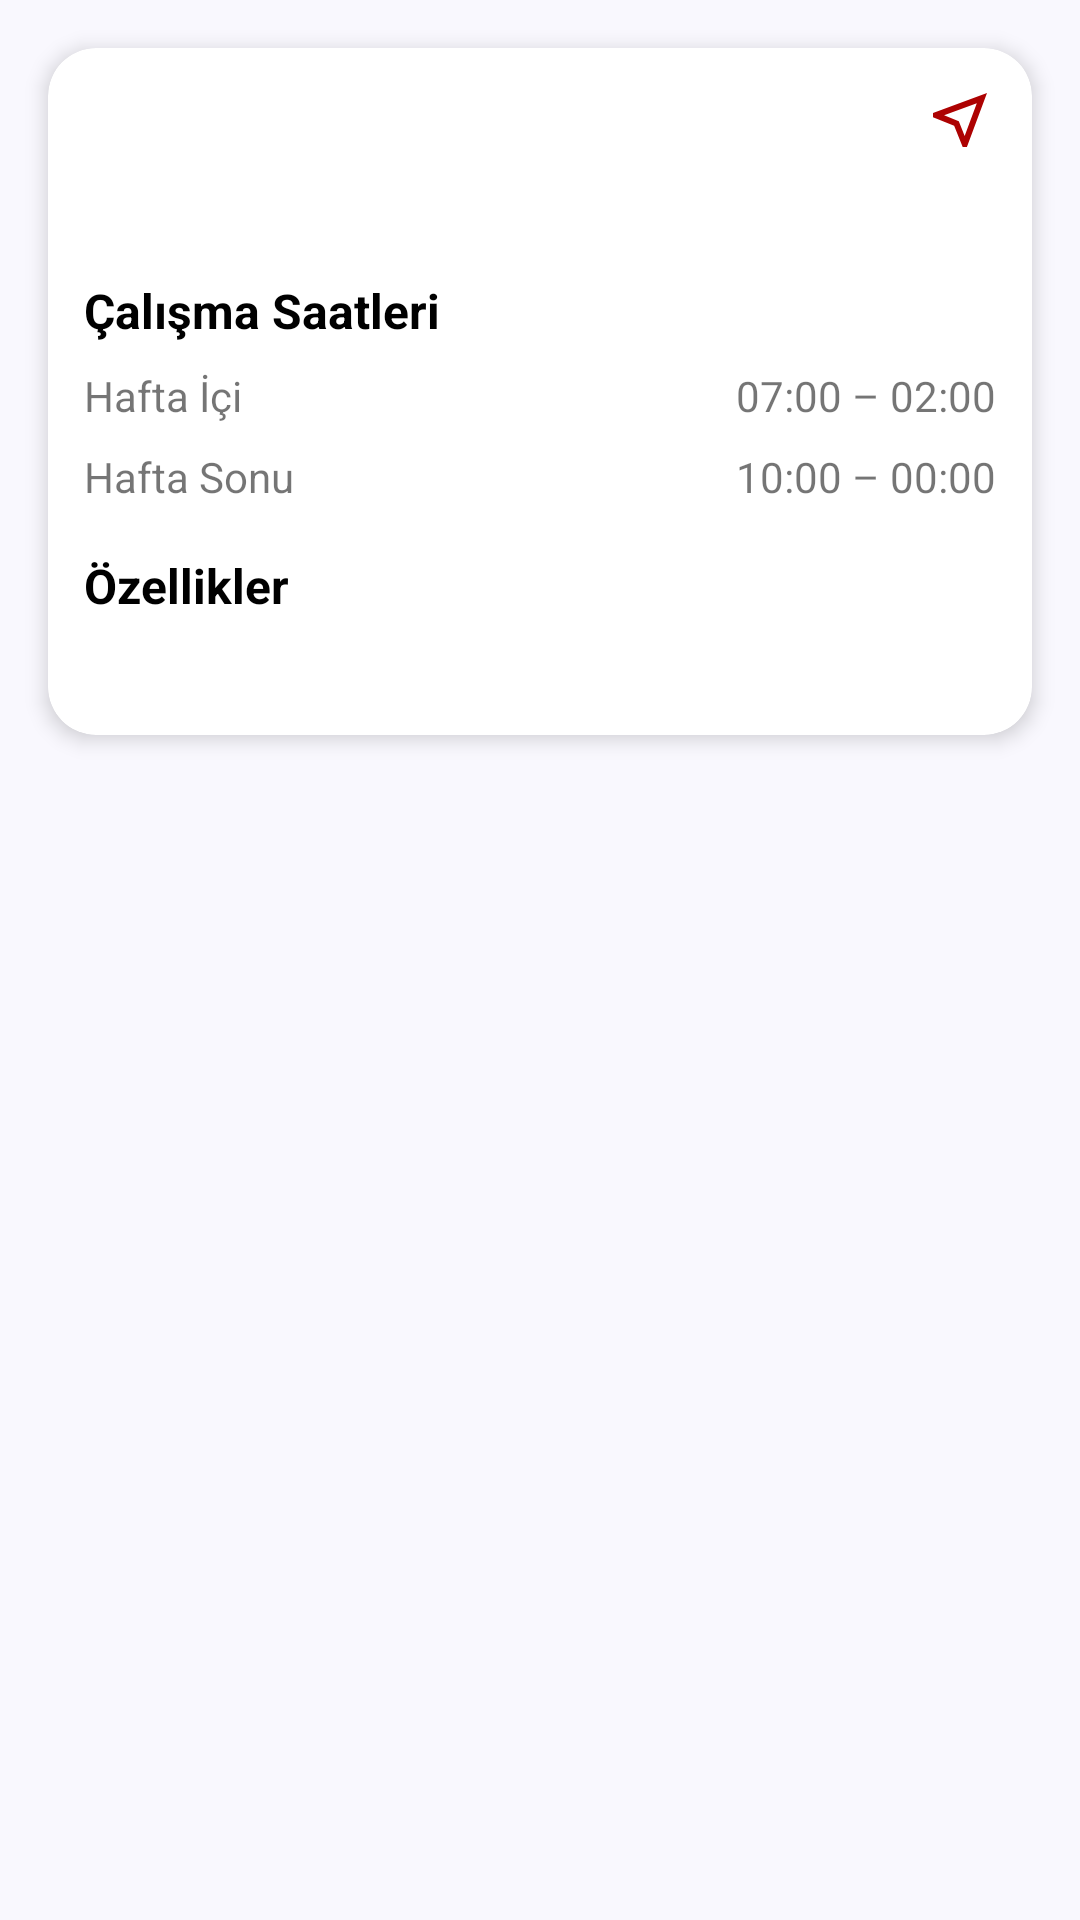

Named icons in this screenshot (1080x1920) and their bounding boxes, (x1, y1, x2, y2):
navigation: (933, 93, 987, 147)
